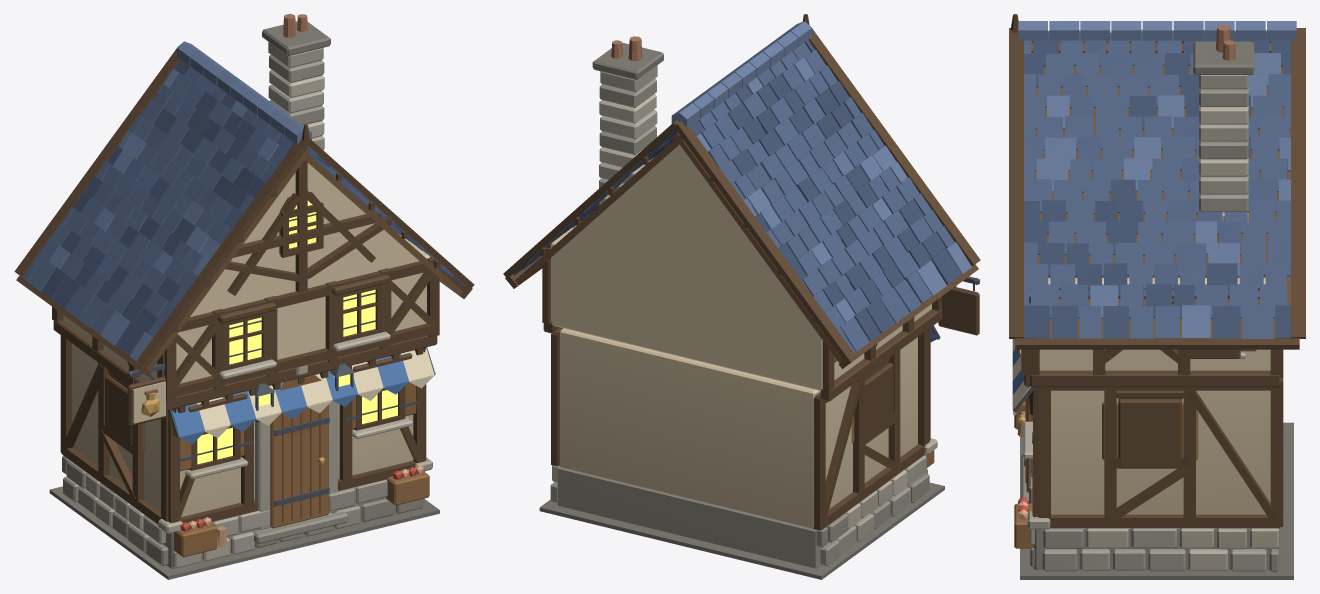
The model's file is shop.glb.
The picture shows the model from 3 angles, left to right: view 1: azimuth 30°, elevation 25°; view 2: azimuth 150°, elevation 25°; view 3: azimuth 270°, elevation 25°; orthographic projection. The views are drawn at different scales.
Visible parts, largest first — view 1: Structure_HV_timber, Roof_HV_shop_slate, Structure_HV_shop_plaster, Roof_HV_shop_slate_dark, Roof_HV_timber, Facade_HV_timber, Facade_HV_door, Roof_HV_shop_slate_light, Structure_HV_stone0, Facade_HV_amber_glass, Structure_HV_stone_dark, Facade_HV_teal_canvas (+14 smaller); view 2: Structure_HV_shop_plaster, Roof_HV_shop_slate, Structure_HV_timber, Structure_HV_stone0, Roof_HV_shop_slate_dark, Roof_HV_timber, Roof_HV_shop_slate_light, Structure_HV_stone_dark, Facade_HV_timber, Roof_HV_oak, Roof_HV_stone1, Roof_HV_stone0 (+4 smaller); view 3: Roof_HV_shop_slate, Structure_HV_shop_plaster, Structure_HV_timber, Roof_HV_shop_slate_dark, Roof_HV_shop_slate_light, Roof_HV_timber, Facade_HV_timber, Structure_HV_stone1, Structure_HV_stone_dark, Structure_HV_stone2, Roof_HV_oak, Roof_HV_stone0 (+8 smaller).
Part boxes in pixels (bbox=[...]): Structure_HV_timber: bbox=[52, 160, 439, 524]; Roof_HV_shop_slate: bbox=[22, 67, 453, 337]; Structure_HV_shop_plaster: bbox=[63, 163, 430, 517]; Roof_HV_shop_slate_dark: bbox=[41, 59, 465, 355]; Roof_HV_timber: bbox=[14, 48, 474, 376]; Facade_HV_timber: bbox=[105, 191, 412, 470]; Facade_HV_door: bbox=[142, 374, 429, 557]; Roof_HV_shop_slate_light: bbox=[50, 41, 378, 363]; Structure_HV_stone0: bbox=[62, 455, 425, 568]; Facade_HV_amber_glass: bbox=[197, 200, 397, 464]; Structure_HV_stone_dark: bbox=[49, 486, 439, 579]; Facade_HV_teal_canvas: bbox=[171, 353, 408, 444]; Structure_HV_shop_plaster: bbox=[550, 144, 931, 529]; Roof_HV_shop_slate: bbox=[523, 42, 954, 355]; Structure_HV_timber: bbox=[542, 234, 942, 530]; Structure_HV_stone0: bbox=[550, 454, 929, 568]; Roof_HV_shop_slate_dark: bbox=[513, 40, 961, 341]; Roof_HV_timber: bbox=[503, 14, 980, 368]; Roof_HV_shop_slate_light: bbox=[572, 21, 972, 322]; Structure_HV_stone_dark: bbox=[539, 482, 944, 579]; Facade_HV_timber: bbox=[864, 287, 979, 442]; Roof_HV_oak: bbox=[515, 132, 958, 363]; Roof_HV_stone1: bbox=[599, 65, 657, 183]; Roof_HV_stone0: bbox=[599, 78, 656, 195]; Roof_HV_shop_slate: bbox=[1024, 30, 1290, 338]; Structure_HV_shop_plaster: bbox=[1039, 278, 1270, 514]; Structure_HV_timber: bbox=[1021, 288, 1283, 528]; Roof_HV_shop_slate_dark: bbox=[1024, 30, 1290, 338]; Roof_HV_shop_slate_light: bbox=[1018, 21, 1296, 338]; Roof_HV_timber: bbox=[1009, 14, 1305, 349]; Facade_HV_timber: bbox=[1116, 349, 1240, 467]; Structure_HV_stone1: bbox=[1042, 528, 1266, 571]; Structure_HV_stone_dark: bbox=[1020, 422, 1293, 579]; Structure_HV_stone2: bbox=[1027, 511, 1278, 570]; Roof_HV_oak: bbox=[1029, 42, 1290, 338]; Roof_HV_stone0: bbox=[1199, 87, 1248, 211].
Size of the model in its own units: 4 by 5.04 by 2.62.
